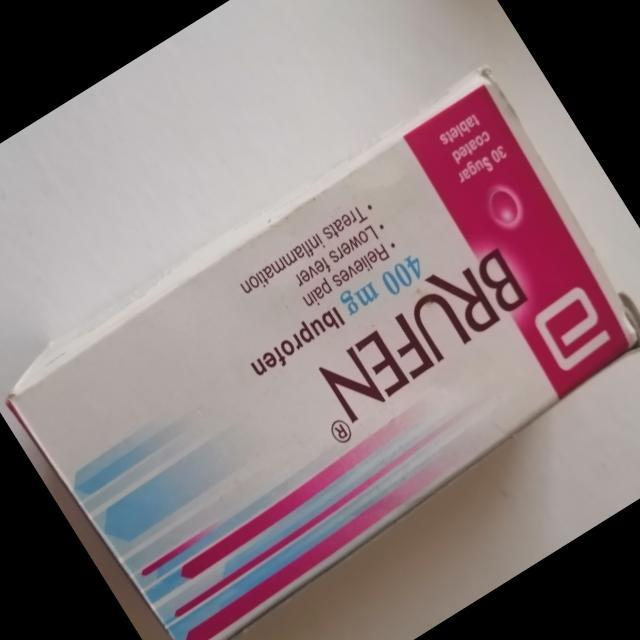Medicine Name: (308, 242, 541, 425)
